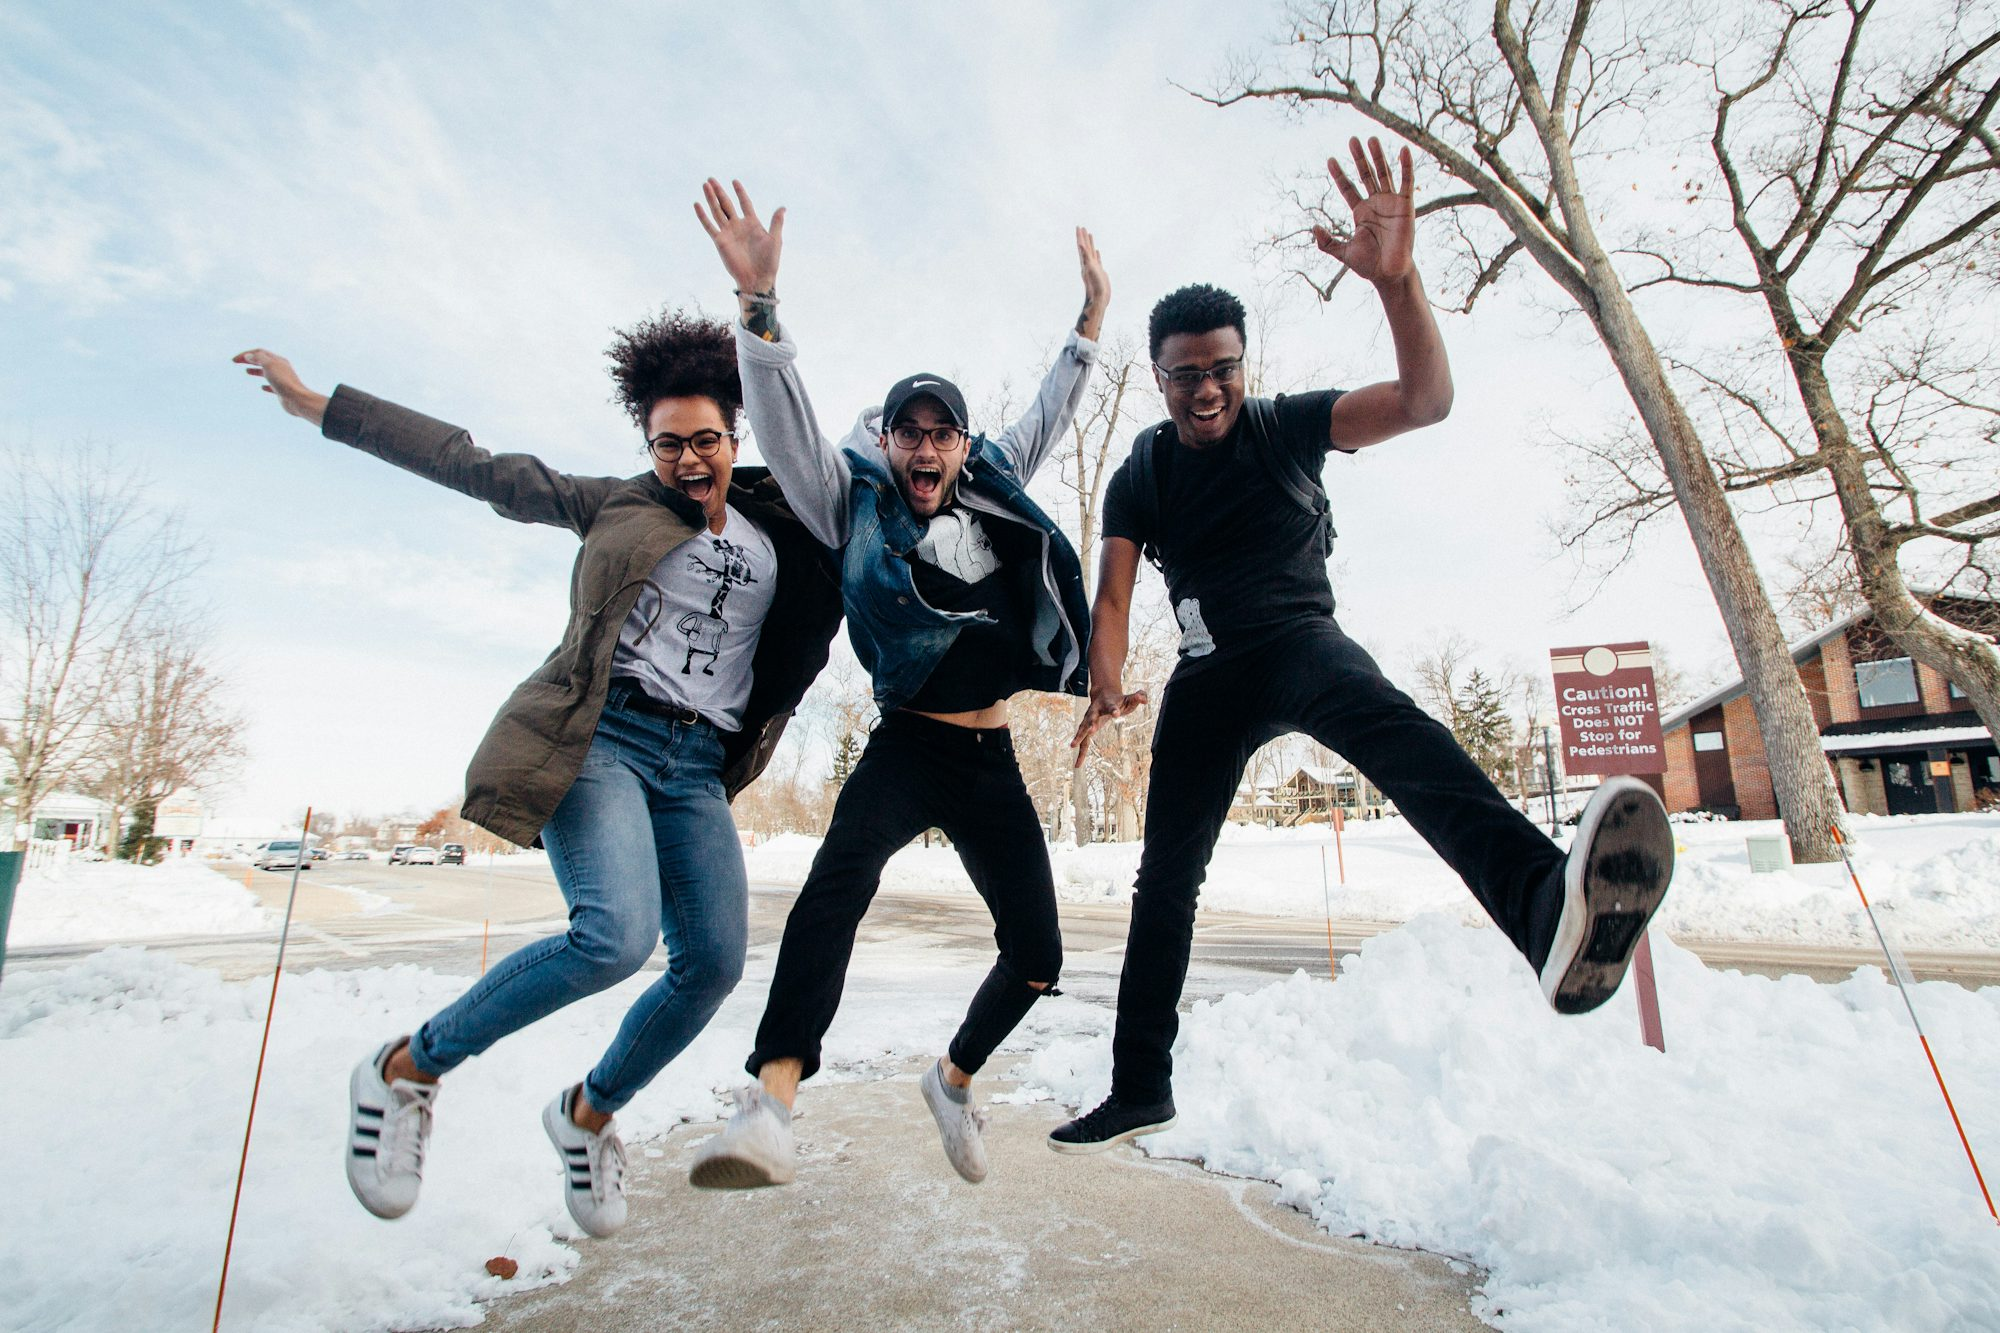person: (200, 284, 895, 1253), (1078, 139, 1693, 1145), (693, 156, 1117, 1192)
